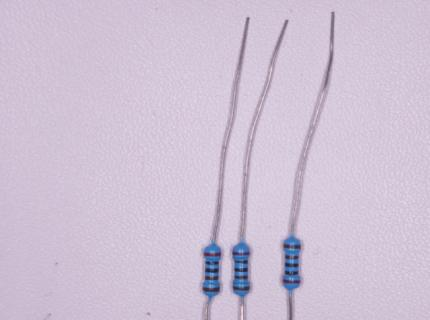Black band: (205, 268, 219, 273), (234, 259, 248, 264), (285, 263, 299, 268), (235, 267, 248, 272), (205, 261, 219, 265), (285, 271, 299, 275)
Brown band: (202, 287, 220, 292), (283, 244, 301, 249), (233, 286, 250, 291), (285, 255, 299, 260), (205, 276, 219, 280), (235, 275, 249, 279)
Red band: (204, 252, 221, 257), (283, 279, 300, 284), (233, 252, 250, 255)
